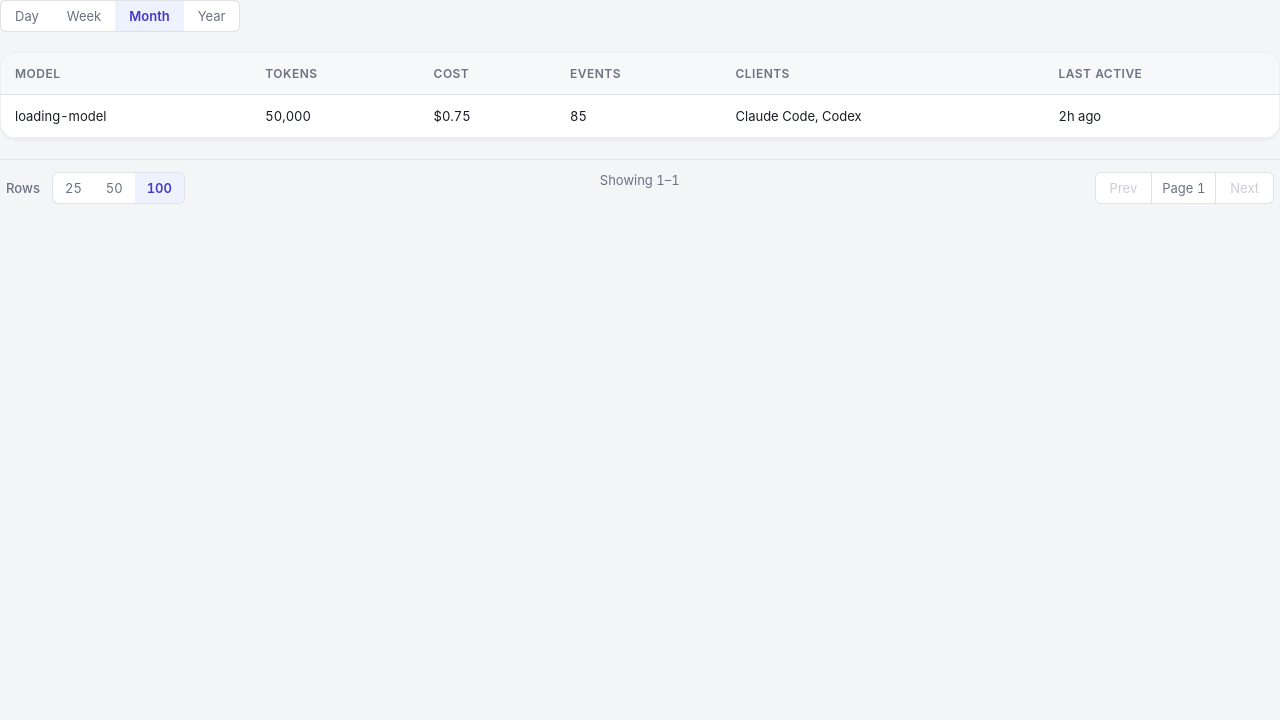
Test: ModelsPage › shows detail drawer loading state
Click the text "loading-model" at (126, 116), box [1, 94, 251, 138]
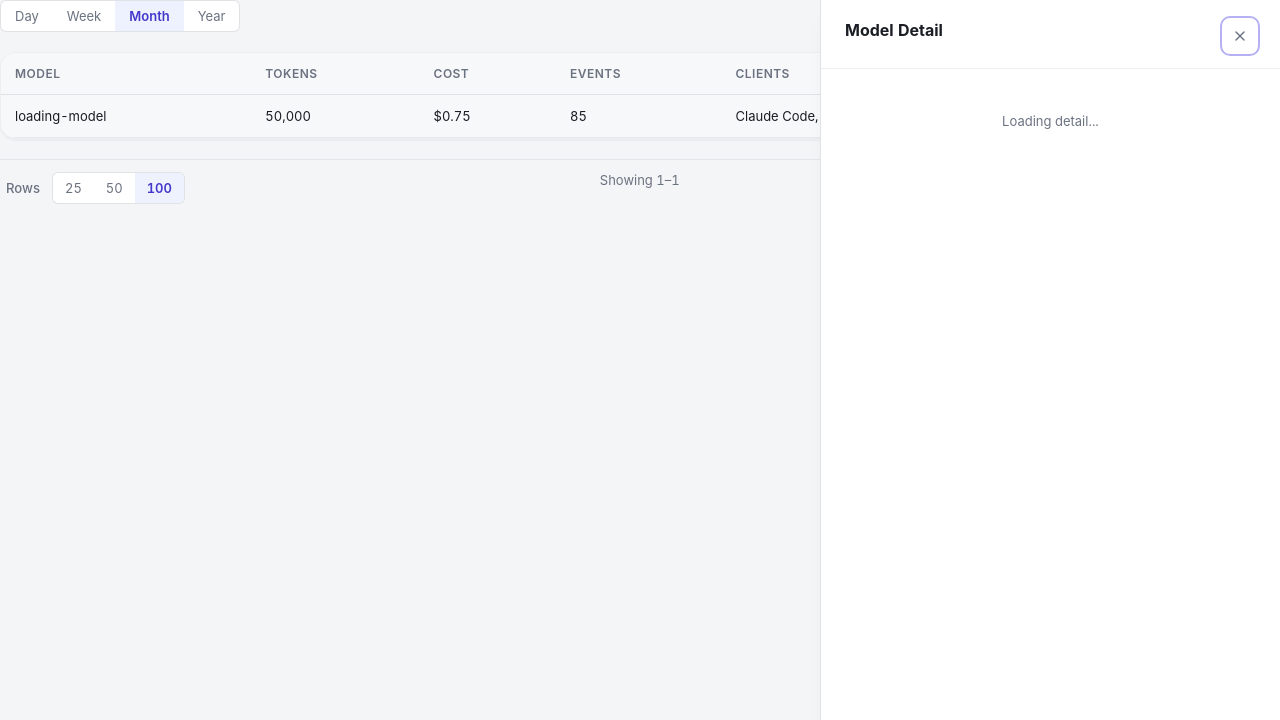
Now the text "Loading detail..." is shown, box [1002, 113, 1099, 129]
